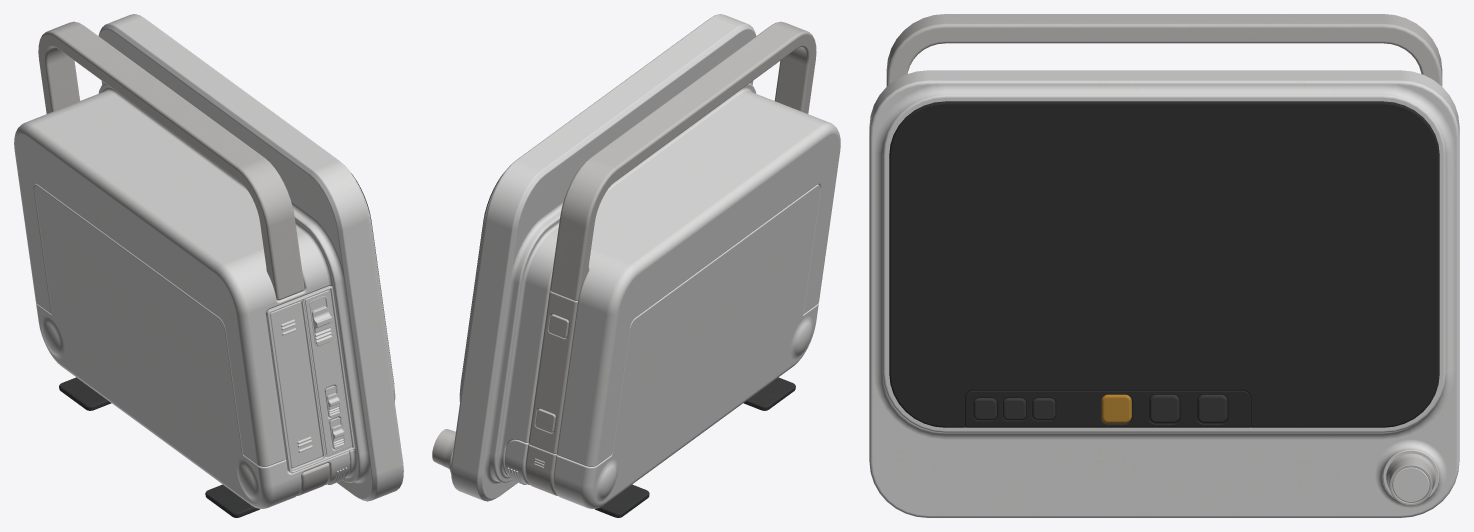
Rendered from monitor_a01.glb.
3 renders of one model, left to right at view 1: azimuth 30°, elevation 25°; view 2: azimuth 150°, elevation 25°; view 3: azimuth 270°, elevation 25°, orthographic. The views are drawn at different scales.
Parts seen in each view (by area): view 1: body_01_mesh_00, buttonSide_01_mesh_00; view 2: body_01_mesh_00, knobcup_01_mesh_00; view 3: screen_01_mesh_00, body_01_mesh_00, knobcup_01_mesh_00, buttonFront_05_mesh_00, buttonFront_04_mesh_00, buttonFront_06_mesh_00.
Boxes of the visible parts, x1=… form: body_01_mesh_00: x1=14, y1=14, x2=403, y2=517; buttonSide_01_mesh_00: x1=311, y1=306, x2=332, y2=345; body_01_mesh_00: x1=449, y1=14, x2=840, y2=517; knobcup_01_mesh_00: x1=432, y1=429, x2=455, y2=468; screen_01_mesh_00: x1=889, y1=101, x2=1439, y2=427; body_01_mesh_00: x1=869, y1=14, x2=1459, y2=517; knobcup_01_mesh_00: x1=1386, y1=453, x2=1435, y2=505; buttonFront_05_mesh_00: x1=1149, y1=394, x2=1179, y2=423; buttonFront_04_mesh_00: x1=1101, y1=394, x2=1131, y2=423; buttonFront_06_mesh_00: x1=1197, y1=394, x2=1227, y2=423.
Size of the model in its own units: 0.0748 by 0.1326 by 0.1643.
Materials: 7 (4 with a texture image).
